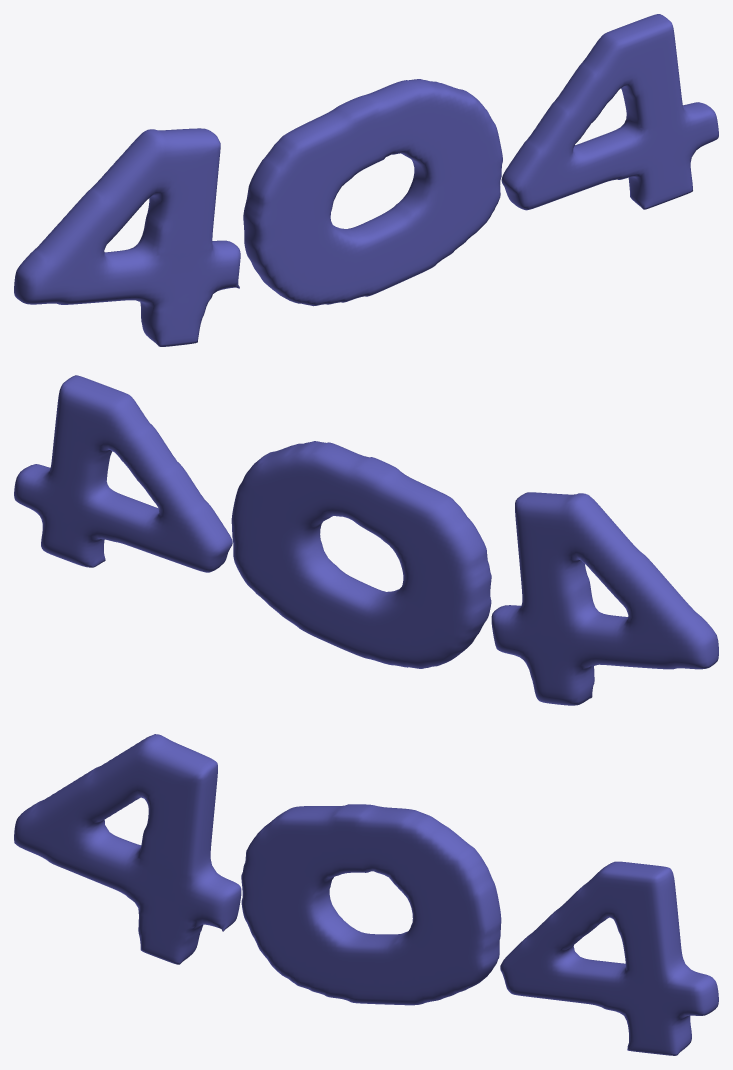
3 renders of one model, top to bottom at view 1: azimuth 30°, elevation 25°; view 2: azimuth 150°, elevation 25°; view 3: azimuth 330°, elevation 25°, orthographic.
Visible parts, largest first — view 1: Text.001; view 2: Text.001; view 3: Text.001.
Boxes of the visible parts, box(x1,y1,x2,y2) form: Text.001: box(14, 14, 718, 346); Text.001: box(14, 375, 718, 705); Text.001: box(14, 734, 718, 1055).
Size of the model in its own units: 24.61 by 7.19 by 1.28.
